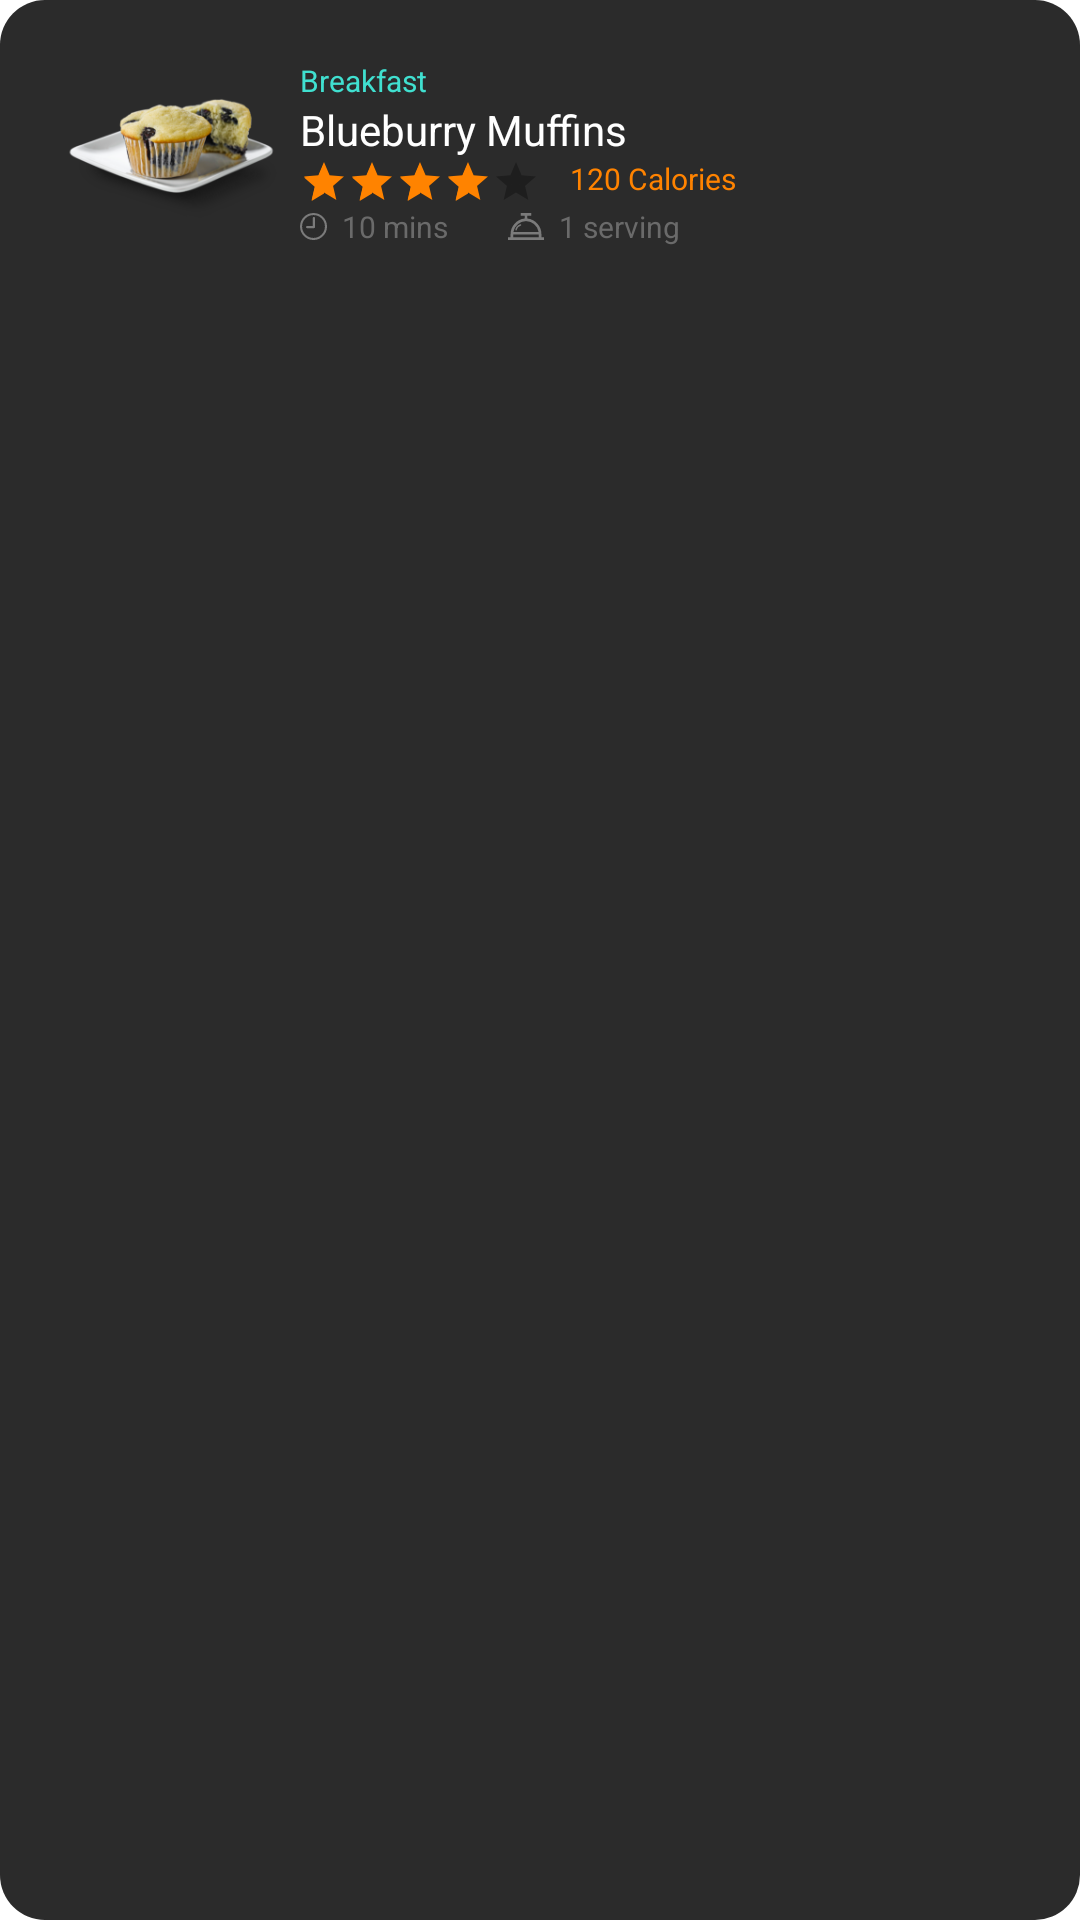

Named icons in this screenshot (1080px×1920px) and their centers, (x=x, y=y):
favorite food: (x=171, y=146)
